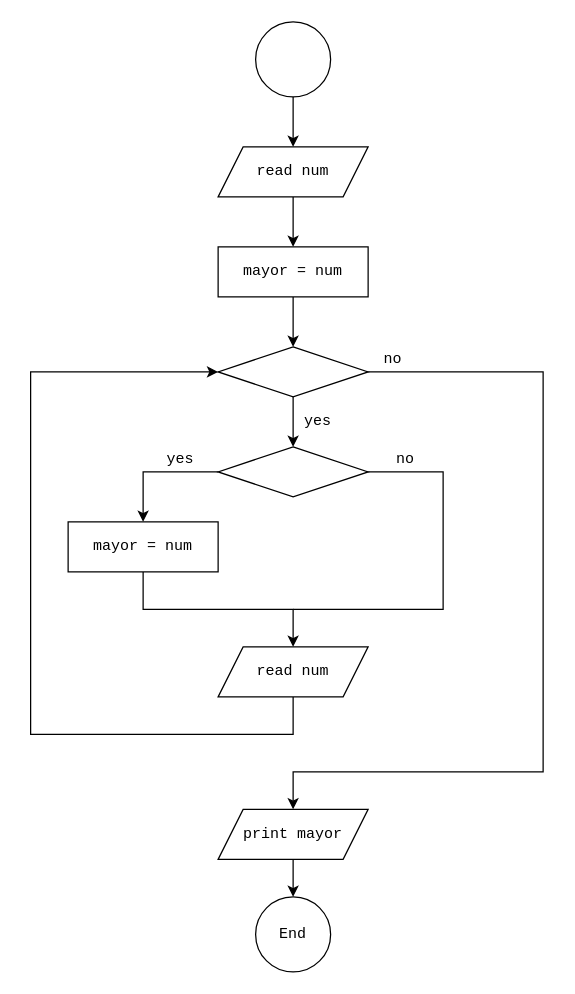
Some shapes in this 575 by 994 pixel diagram are drawn without their labels. Each missing label, with the centre of its shape:
num >= 0: the point at 292,371
num >= mayor: the point at 292,471
Start: the point at 292,59
